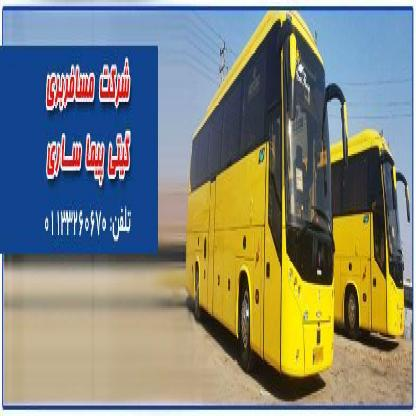Bus: (179, 0, 348, 408), (327, 133, 412, 352)
